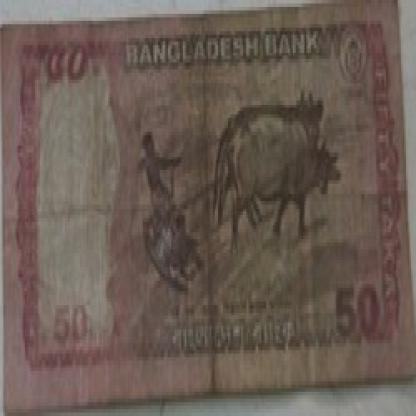Fifty taka: (326, 274, 394, 347), (36, 38, 100, 87)
